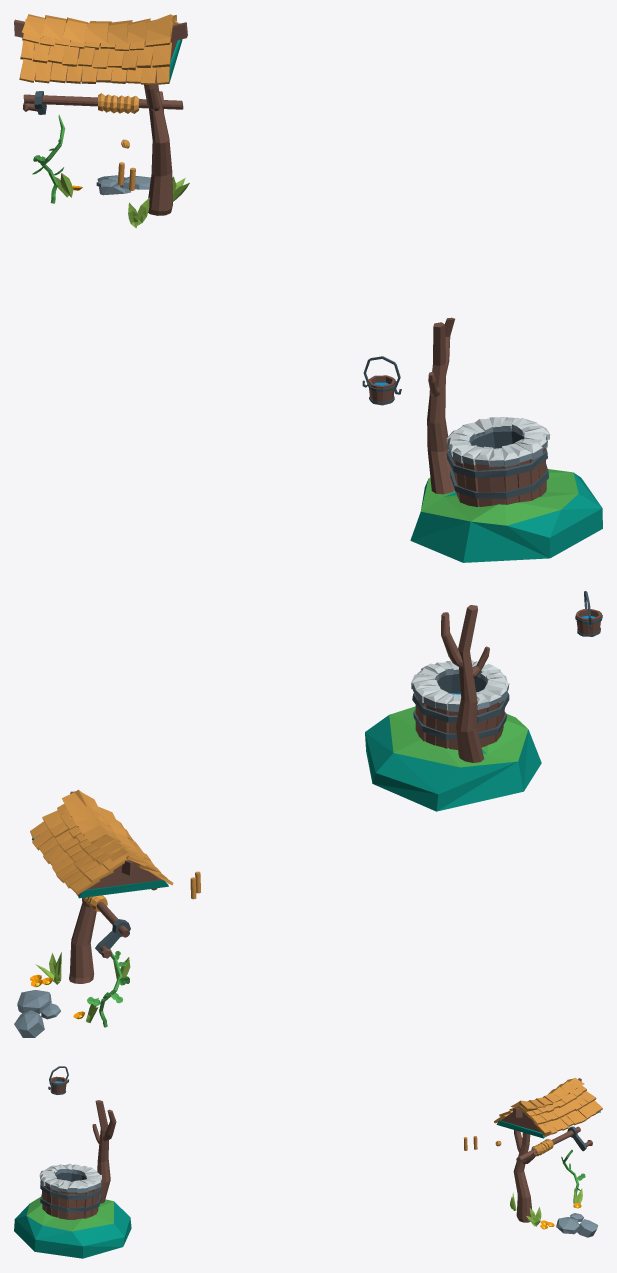
File: well2.obj
3 views of the same model, one above another, from view 1: azimuth 30°, elevation 25°; view 2: azimuth 150°, elevation 25°; view 3: azimuth 270°, elevation 25° (orthographic). The views are drawn at different scales.
Visible parts, largest first — view 1: mesh1293293119, mesh1784896143, mesh1378999907, mesh1816269119, mesh1463751419, mesh712474116; view 2: mesh1293293119, mesh1784896143, mesh1378999907, mesh1816269119, mesh1984699503, mesh1463751419, mesh644428560, mesh464703084; view 3: mesh1293293119, mesh1784896143, mesh1378999907, mesh1816269119, mesh1984699503, mesh1463751419, mesh644428560, mesh712474116, mesh464703084.
Boxes of the visible parts, x1,y1,x2,y2 form: mesh1293293119: (410, 469, 602, 562); mesh1784896143: (446, 417, 550, 506); mesh1378999907: (427, 317, 454, 494); mesh1816269119: (144, 83, 172, 215); mesh1463751419: (362, 356, 401, 405); mesh712474116: (23, 94, 183, 109); mesh1293293119: (365, 706, 541, 811); mesh1784896143: (411, 660, 509, 749); mesh1378999907: (441, 605, 489, 762); mesh1816269119: (69, 887, 96, 983); mesh1984699503: (32, 837, 168, 898); mesh1463751419: (575, 591, 602, 636); mesh644428560: (17, 990, 51, 1013); mesh464703084: (14, 1010, 44, 1037); mesh1293293119: (14, 1197, 131, 1258); mesh1784896143: (39, 1163, 101, 1219); mesh1378999907: (92, 1100, 116, 1203); mesh1816269119: (513, 1130, 536, 1222); mesh1984699503: (496, 1111, 600, 1138); mesh1463751419: (48, 1066, 68, 1094); mesh644428560: (556, 1217, 579, 1234); mesh712474116: (516, 1126, 580, 1162); mesh464703084: (577, 1219, 598, 1237).
Bounding box in the file's own units: 0.5861 × 0.5819 × 2.11.
